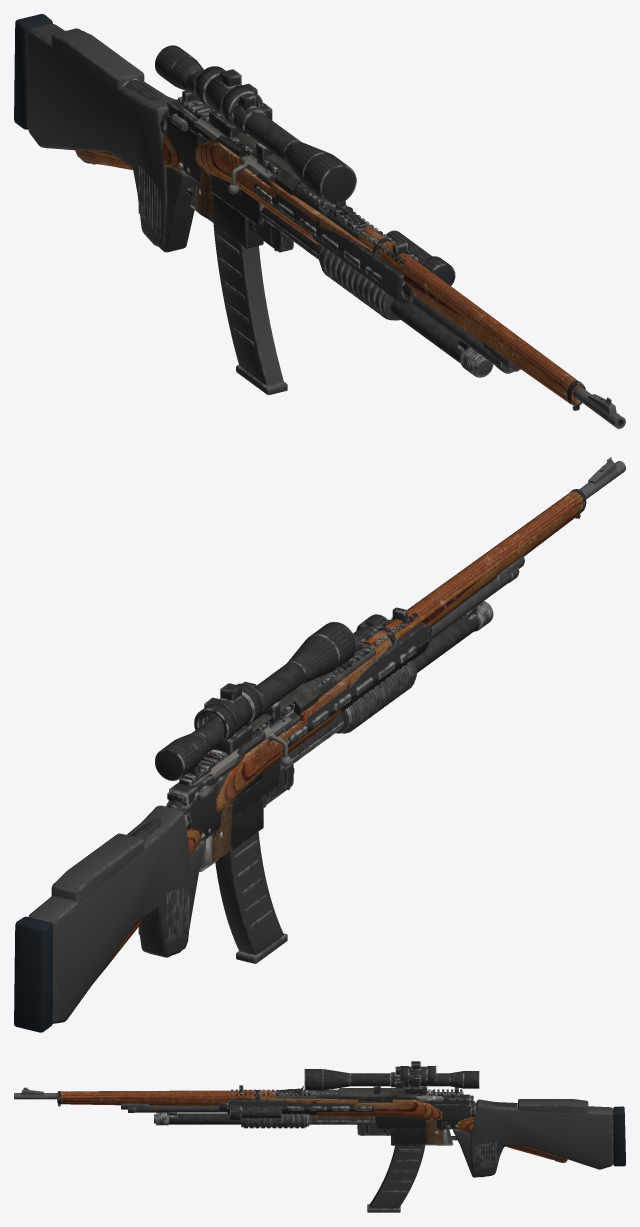
Rendered from guns.glb.
3 views of the same model, one above another, from view 1: azimuth 30°, elevation 25°; view 2: azimuth 150°, elevation 25°; view 3: azimuth 270°, elevation 25° (orthographic). The views are drawn at different scales.
Visible parts, largest first — view 1: shotgun, carbine, rifle, rifle_scope, carbine_mag, shotgun_pump, pistol, rifle_bolt; view 2: shotgun, carbine, rifle, rifle_scope, carbine_mag, shotgun_pump, pistol; view 3: shotgun, rifle, carbine, rifle_scope, carbine_mag, shotgun_pump, pistol.
Part boxes in pixels (bbox=[...]): shotgun: bbox=[14, 14, 513, 377]; carbine: bbox=[51, 28, 520, 371]; rifle: bbox=[75, 132, 625, 428]; rifle_scope: bbox=[155, 45, 356, 204]; carbine_mag: bbox=[213, 222, 287, 394]; shotgun_pump: bbox=[319, 247, 400, 320]; pistol: bbox=[195, 154, 246, 222]; rifle_bolt: bbox=[228, 153, 276, 194]; shotgun: bbox=[14, 567, 519, 1032]; carbine: bbox=[51, 556, 524, 957]; rifle: bbox=[93, 457, 625, 983]; rifle_scope: bbox=[155, 622, 356, 780]; carbine_mag: bbox=[215, 832, 287, 963]; shotgun_pump: bbox=[335, 660, 416, 733]; pistol: bbox=[205, 803, 232, 865]; shotgun: bbox=[128, 1099, 625, 1177]; rifle: bbox=[14, 1086, 567, 1162]; carbine: bbox=[121, 1061, 588, 1177]; rifle_scope: bbox=[304, 1066, 479, 1094]; carbine_mag: bbox=[367, 1143, 425, 1212]; shotgun_pump: bbox=[241, 1113, 309, 1128]; pistol: bbox=[424, 1119, 447, 1145].
Size of the model in its own units: 0.0984 by 0.3583 by 1.35.
6 materials, 5 textured.
